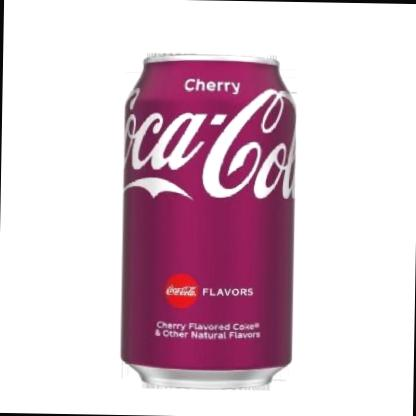alumunium_can: (118, 51, 300, 391)
